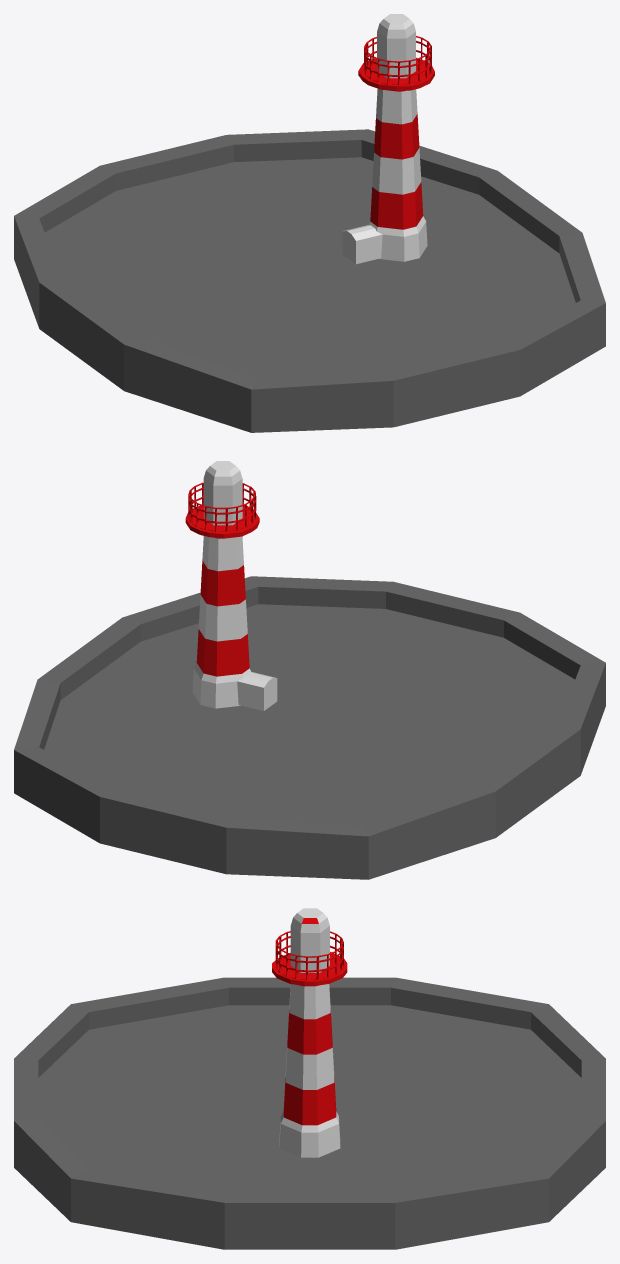
Rendered from lighthouse.fbx.
3 views of the same model, one above another, from view 1: azimuth 30°, elevation 25°; view 2: azimuth 150°, elevation 25°; view 3: azimuth 270°, elevation 25° (orthographic).
Parts seen in each view (by area): view 1: Cube.001; view 2: Cube.001; view 3: Cube.001.
Boxes of the visible parts, left/top/right/bottom form: Cube.001: left=14, top=14, right=605, bottom=432; Cube.001: left=14, top=461, right=605, bottom=879; Cube.001: left=14, top=908, right=605, bottom=1249.
Size of the model in its own units: 3967 by 2186 by 4405.
